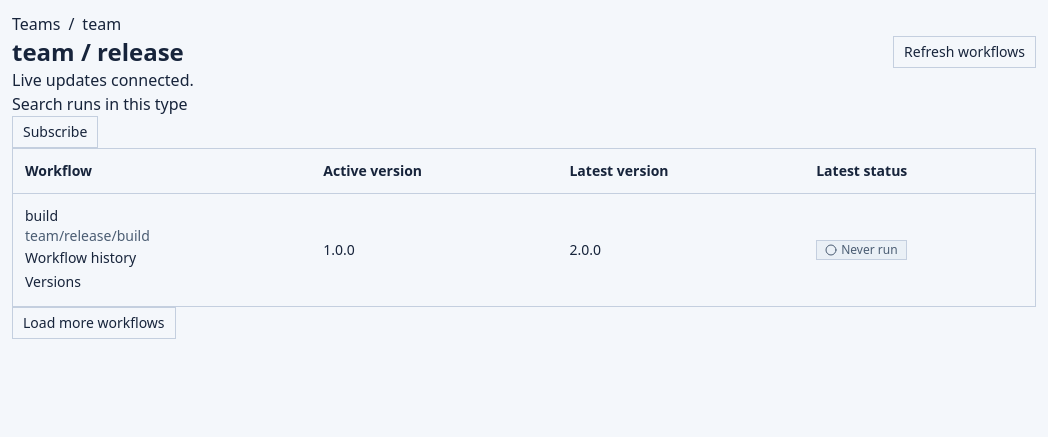
Test case: catalogue views › paginates workflows, preserves active/latest versions, and labels never-run workflows
Check: the table shows "1.0.0", box top-left (323, 240), bottom-right (355, 259)
Check: the table shows "2.0.0", box top-left (569, 240), bottom-right (601, 259)
What coordinates should you click on to do the following:
click the button "Load more workflows"
I would click on:
 (94, 323)
Its box is top-left (12, 307), bottom-right (176, 339).
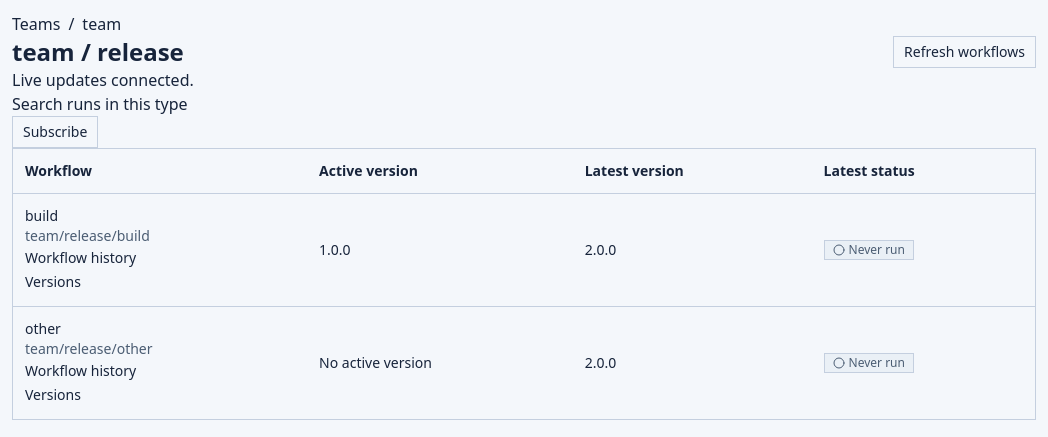
Check: the number of rows is 3, box top-left (13, 149), bottom-right (1035, 194); top-left (13, 194), bottom-right (1035, 306); top-left (13, 306), bottom-right (1035, 419)
Check: the text "No active version" is shown, box top-left (307, 306), bottom-right (573, 419)
Check: the button "Load more workflows" is gone
